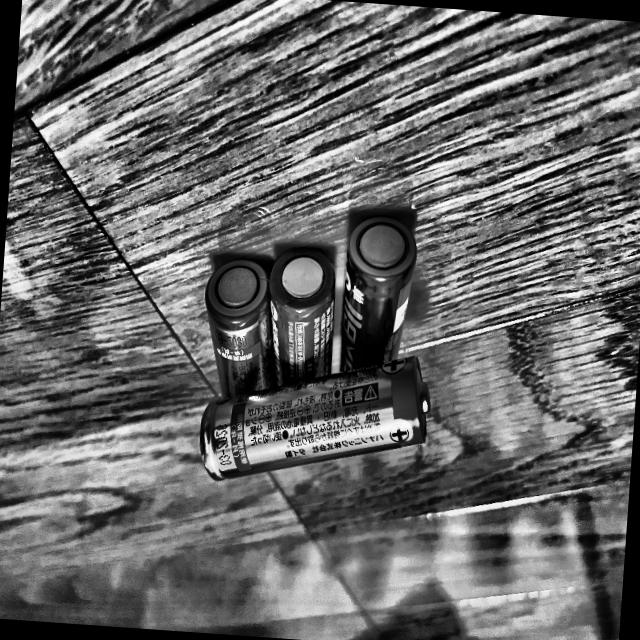drycell: (193, 338, 462, 506), (190, 242, 278, 442)
